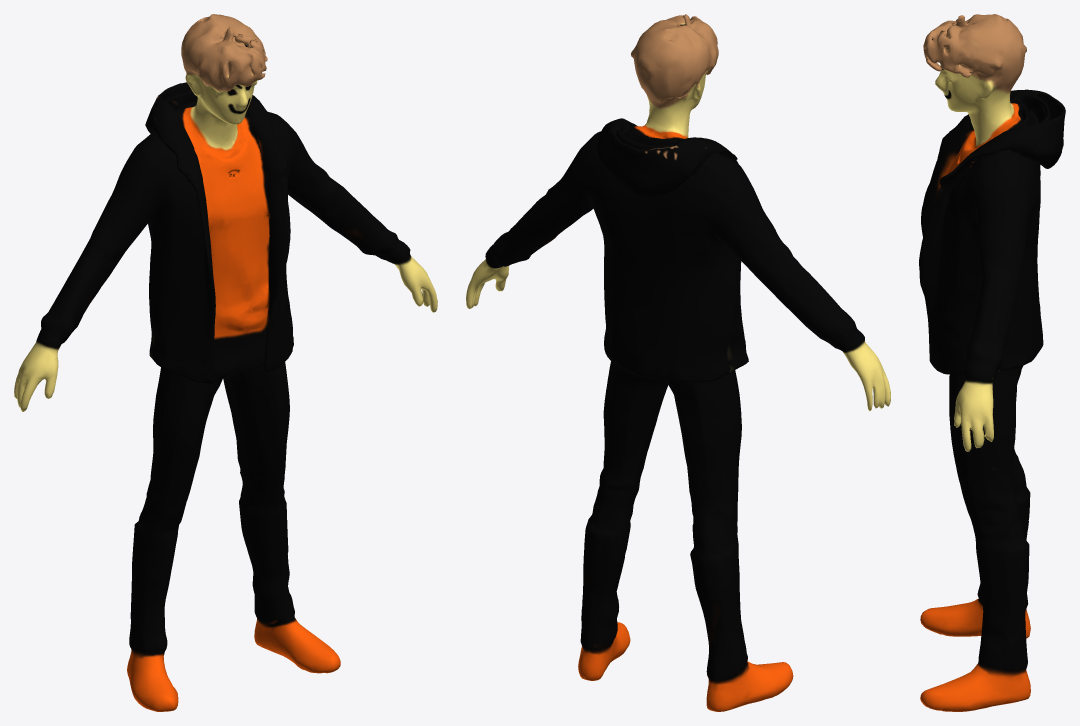
Rendered from TestTed.fbx.
The picture shows the model from 3 angles, left to right: view 1: azimuth 30°, elevation 25°; view 2: azimuth 150°, elevation 25°; view 3: azimuth 270°, elevation 25°; orthographic projection.
Parts seen in each view (by area): view 1: Mesh_0; view 2: Mesh_0; view 3: Mesh_0.
Boxes of the visible parts, x1,y1,x2,y2 form: Mesh_0: [14, 14, 437, 711]; Mesh_0: [466, 14, 890, 711]; Mesh_0: [919, 14, 1065, 711].
Bounding box in the file's own units: 133 × 200 × 40.77.
Materials: 1 (1 with a texture image).
